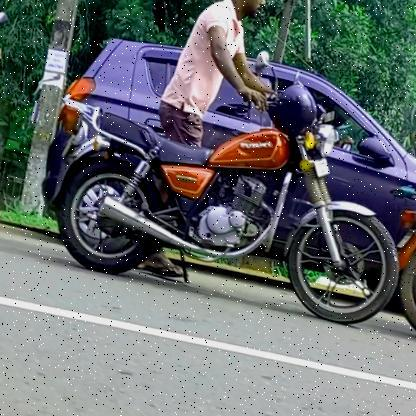motorcycle: (40, 43, 410, 334)
